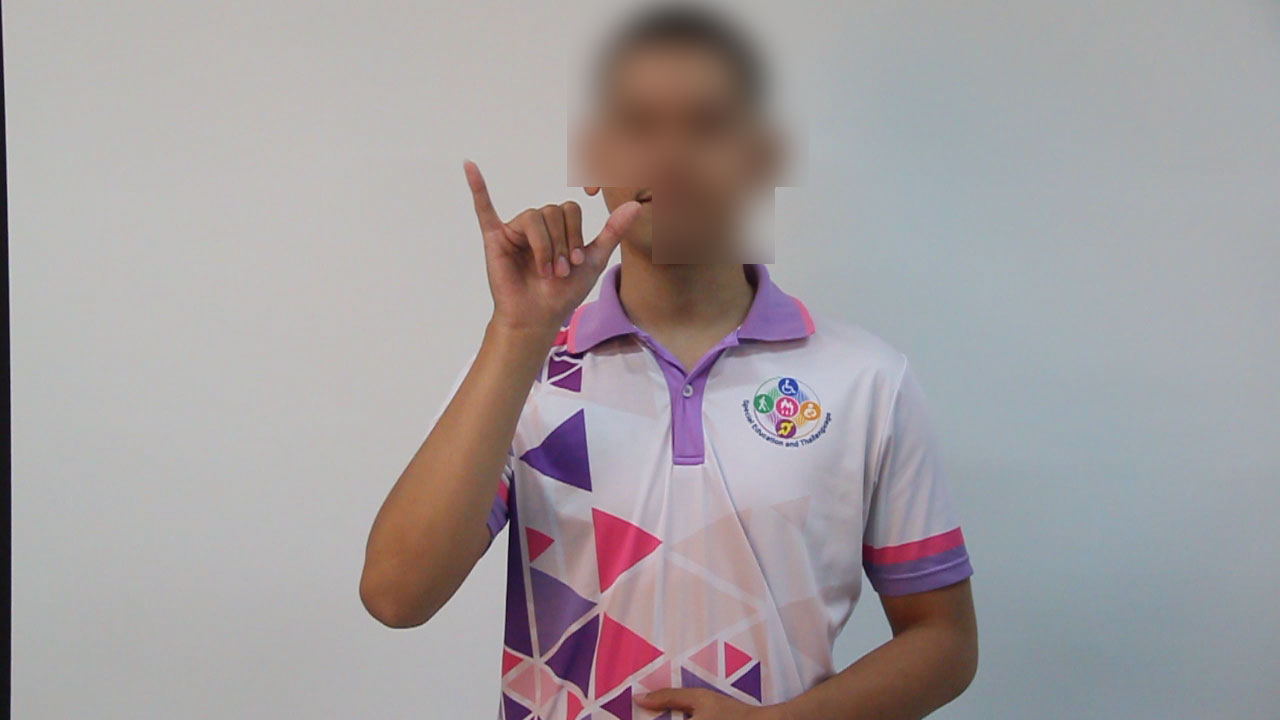yor: (453, 152, 651, 334), (543, 468, 560, 476)
